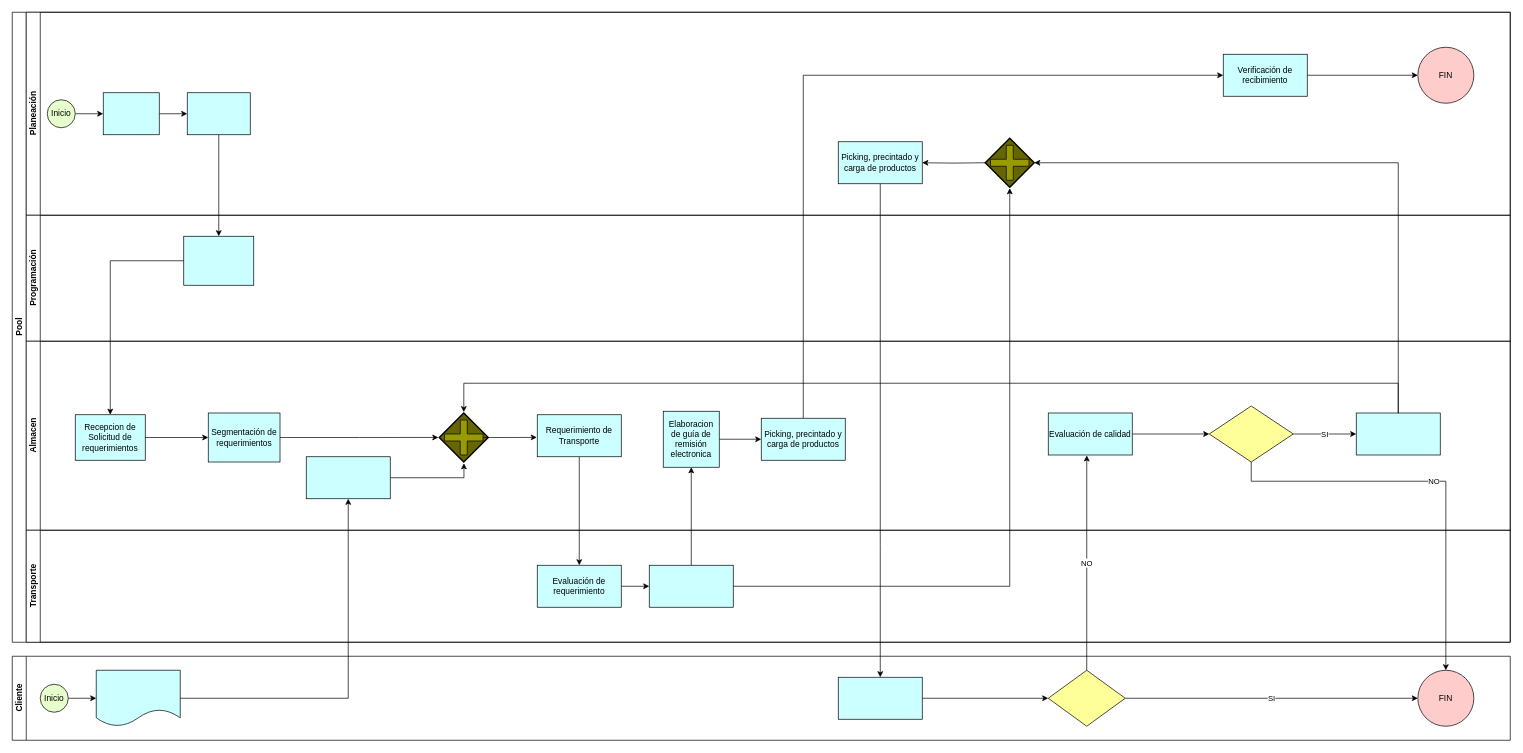
Some shapes in this 1523 by 753 pixel diagram are drawn without their labels. The centre of each missing label's shape, as x and y in pixels:
"Asignación de vehículo y conductor" goes at point 691,586.
"Cargar requerimientos al WMS" goes at point 218,260.
"Distribución de Requerimientos" goes at point 348,477.
"Elaboración de requerimientos" goes at point 218,113.
"Elaboración de Requermiento" goes at point 1398,433.
"Evaluación de actividades" goes at point 131,113.
"Reclamo fundamentado" goes at point 1251,433.
"Requerimiento de compra" goes at point 138,698.
"Verificación de entrega" goes at point 880,698.
"¿Satisfacción?" goes at point 1086,698.
